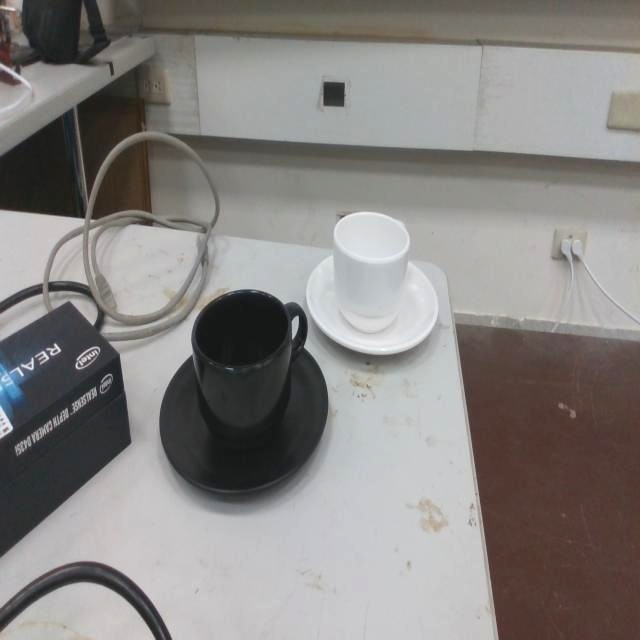black: (156, 286, 329, 504)
white: (304, 209, 440, 360)
